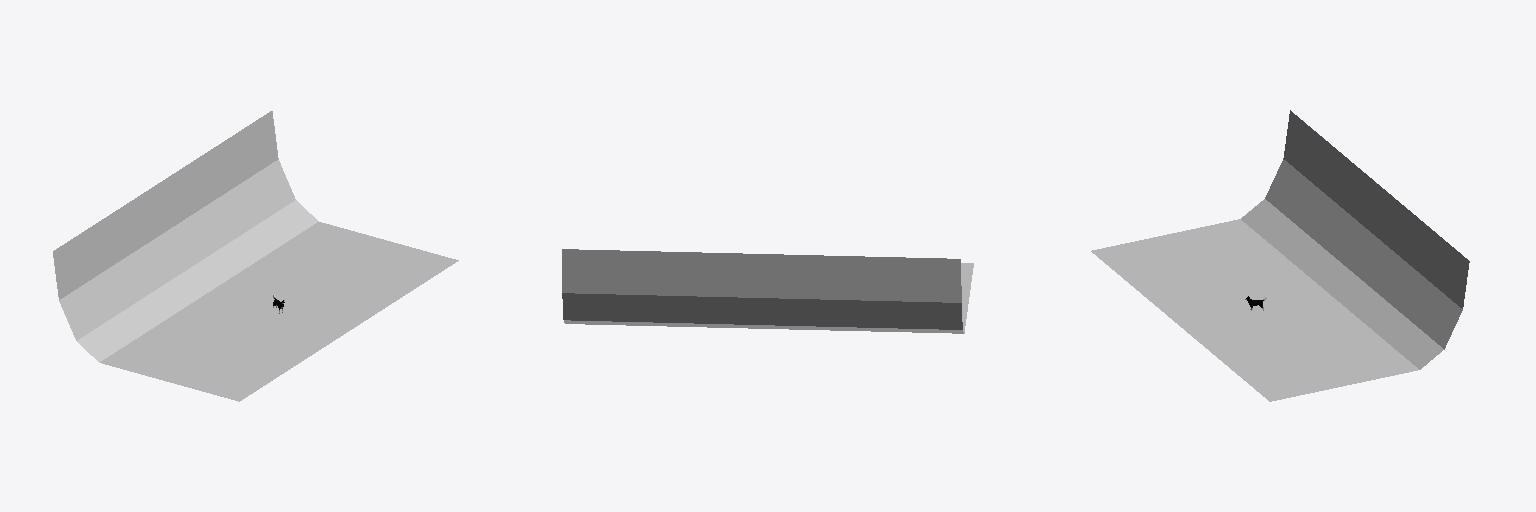
Rendered from Wolf.obj.
3 views of the same model, side by side, from view 1: azimuth 30°, elevation 25°; view 2: azimuth 150°, elevation 25°; view 3: azimuth 270°, elevation 25° (orthographic).
Visible parts, largest first — view 1: Plane; view 2: Plane; view 3: Plane.
Boxes of the visible parts, x1,y1,x2,y2 form: Plane: [53, 111, 458, 401]; Plane: [562, 249, 973, 333]; Plane: [1091, 110, 1469, 401].
Size of the model in its own units: 126 by 30 by 105.